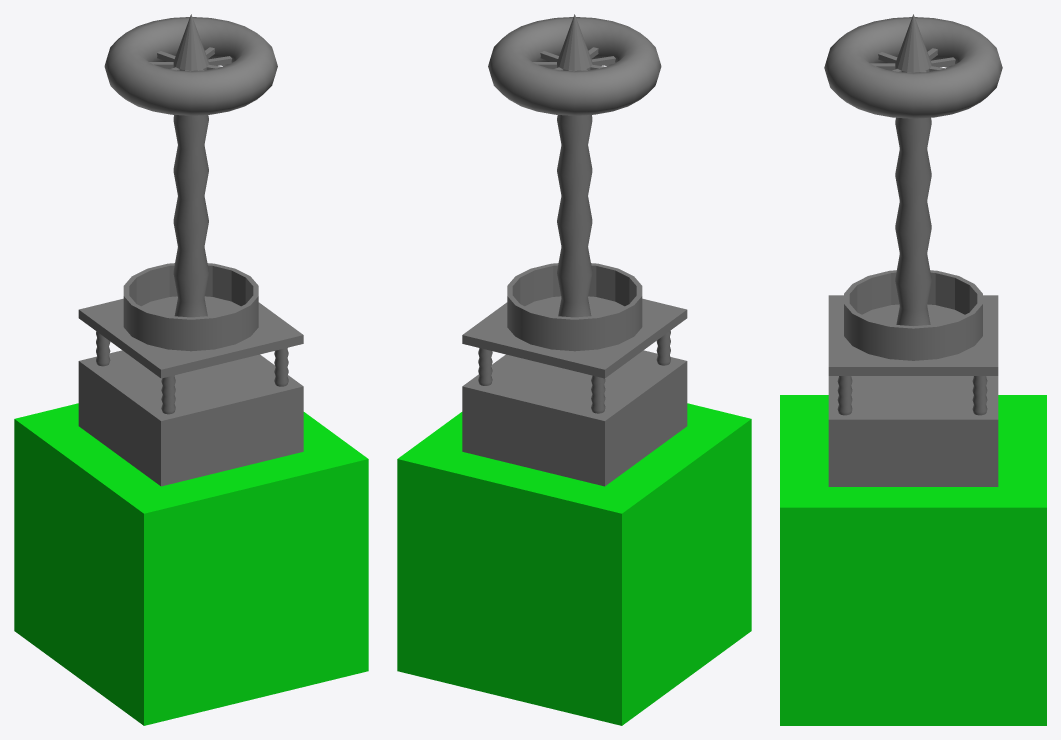
File: TeslaBlue.fbx
3 views of the same model, side by side, from view 1: azimuth 30°, elevation 25°; view 2: azimuth 150°, elevation 25°; view 3: azimuth 270°, elevation 25° (orthographic). The views are drawn at different scales.
Visible parts, largest first — view 1: Floor_high, tesla_base, tesla_top ring, tesla_stalk, tesla_base ring, tesla_plate; view 2: Floor_high, tesla_base, tesla_top ring, tesla_stalk, tesla_base ring, tesla_plate; view 3: Floor_high, tesla_base, tesla_top ring, tesla_stalk, tesla_base ring, tesla_plate, tesla_pipe002, tesla_pipe.
Boxes of the visible parts, x1=… form: Floor_high: x1=14, y1=403, x2=368, y2=725; tesla_base: x1=78, y1=350, x2=303, y2=486; tesla_top ring: x1=104, y1=17, x2=277, y2=115; tesla_stalk: x1=149, y1=14, x2=232, y2=317; tesla_base ring: x1=123, y1=263, x2=258, y2=351; tesla_plate: x1=78, y1=296, x2=303, y2=378; Floor_high: x1=397, y1=403, x2=751, y2=725; tesla_base: x1=462, y1=350, x2=687, y2=486; tesla_top ring: x1=488, y1=17, x2=661, y2=115; tesla_stalk: x1=533, y1=14, x2=615, y2=317; tesla_base ring: x1=507, y1=263, x2=642, y2=351; tesla_plate: x1=462, y1=296, x2=687, y2=378; Floor_high: x1=780, y1=395, x2=1046, y2=725; tesla_base: x1=828, y1=376, x2=998, y2=486; tesla_top ring: x1=824, y1=17, x2=1002, y2=118; tesla_stalk: x1=870, y1=14, x2=955, y2=325; tesla_base ring: x1=844, y1=270, x2=982, y2=360; tesla_plate: x1=828, y1=295, x2=998, y2=375; tesla_pipe002: x1=972, y1=376, x2=987, y2=415; tesla_pipe: x1=837, y1=376, x2=852, y2=415.
Size of the model in its own units: 39.37 by 107 by 39.37.
